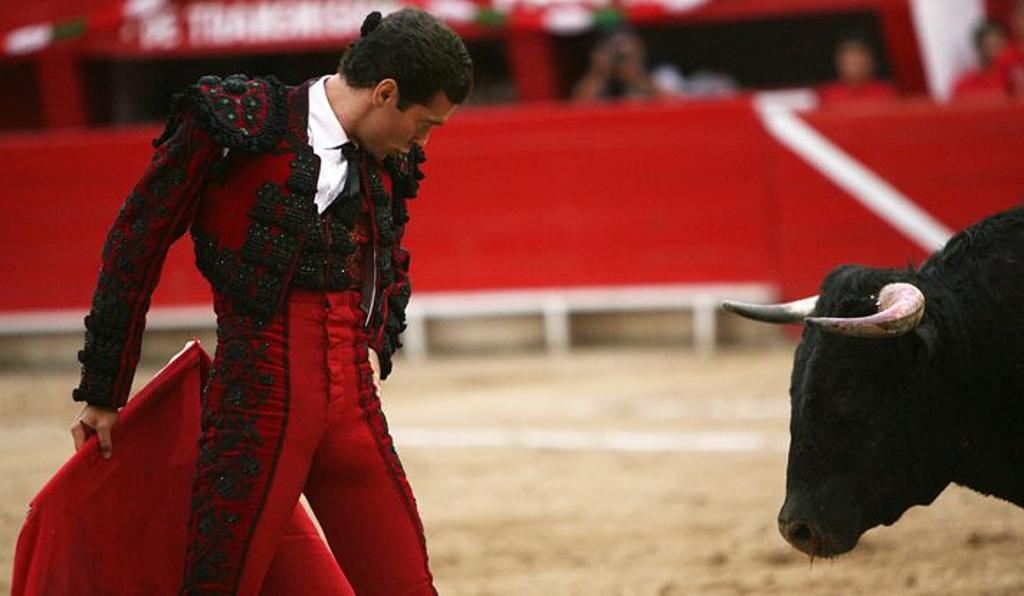face: (377, 57, 469, 161)
